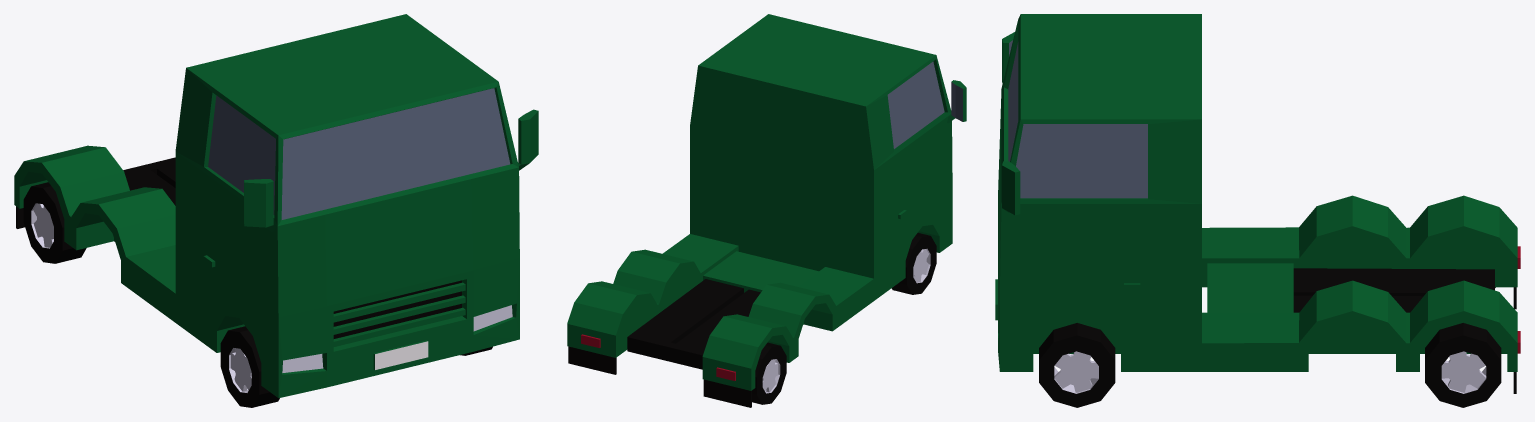
Rendered from Truck.gltf.
The picture shows the model from 3 angles, left to right: view 1: azimuth 30°, elevation 25°; view 2: azimuth 150°, elevation 25°; view 3: azimuth 270°, elevation 25°; orthographic projection. The views are drawn at different scales.
Visible parts, largest first — view 1: Truck, Truck_wheel_rear_right_2, Truck_wheel_front_right; view 2: Truck, Truck_wheel_front_right, Truck_wheel_rear_right_2; view 3: Truck, Truck_wheel_front_left, Truck_wheel_rear_left_2.
Boxes of the visible parts, bbox=[...] form: Truck: bbox=[14, 14, 538, 398]; Truck_wheel_rear_right_2: bbox=[23, 182, 86, 263]; Truck_wheel_front_right: bbox=[220, 326, 279, 407]; Truck: bbox=[567, 14, 966, 407]; Truck_wheel_front_right: bbox=[891, 233, 936, 294]; Truck_wheel_rear_right_2: bbox=[752, 342, 786, 404]; Truck: bbox=[995, 14, 1520, 393]; Truck_wheel_front_left: bbox=[1039, 323, 1115, 407]; Truck_wheel_rear_left_2: bbox=[1425, 323, 1501, 407].
Size of the model in its own units: 341 by 321 by 538.
